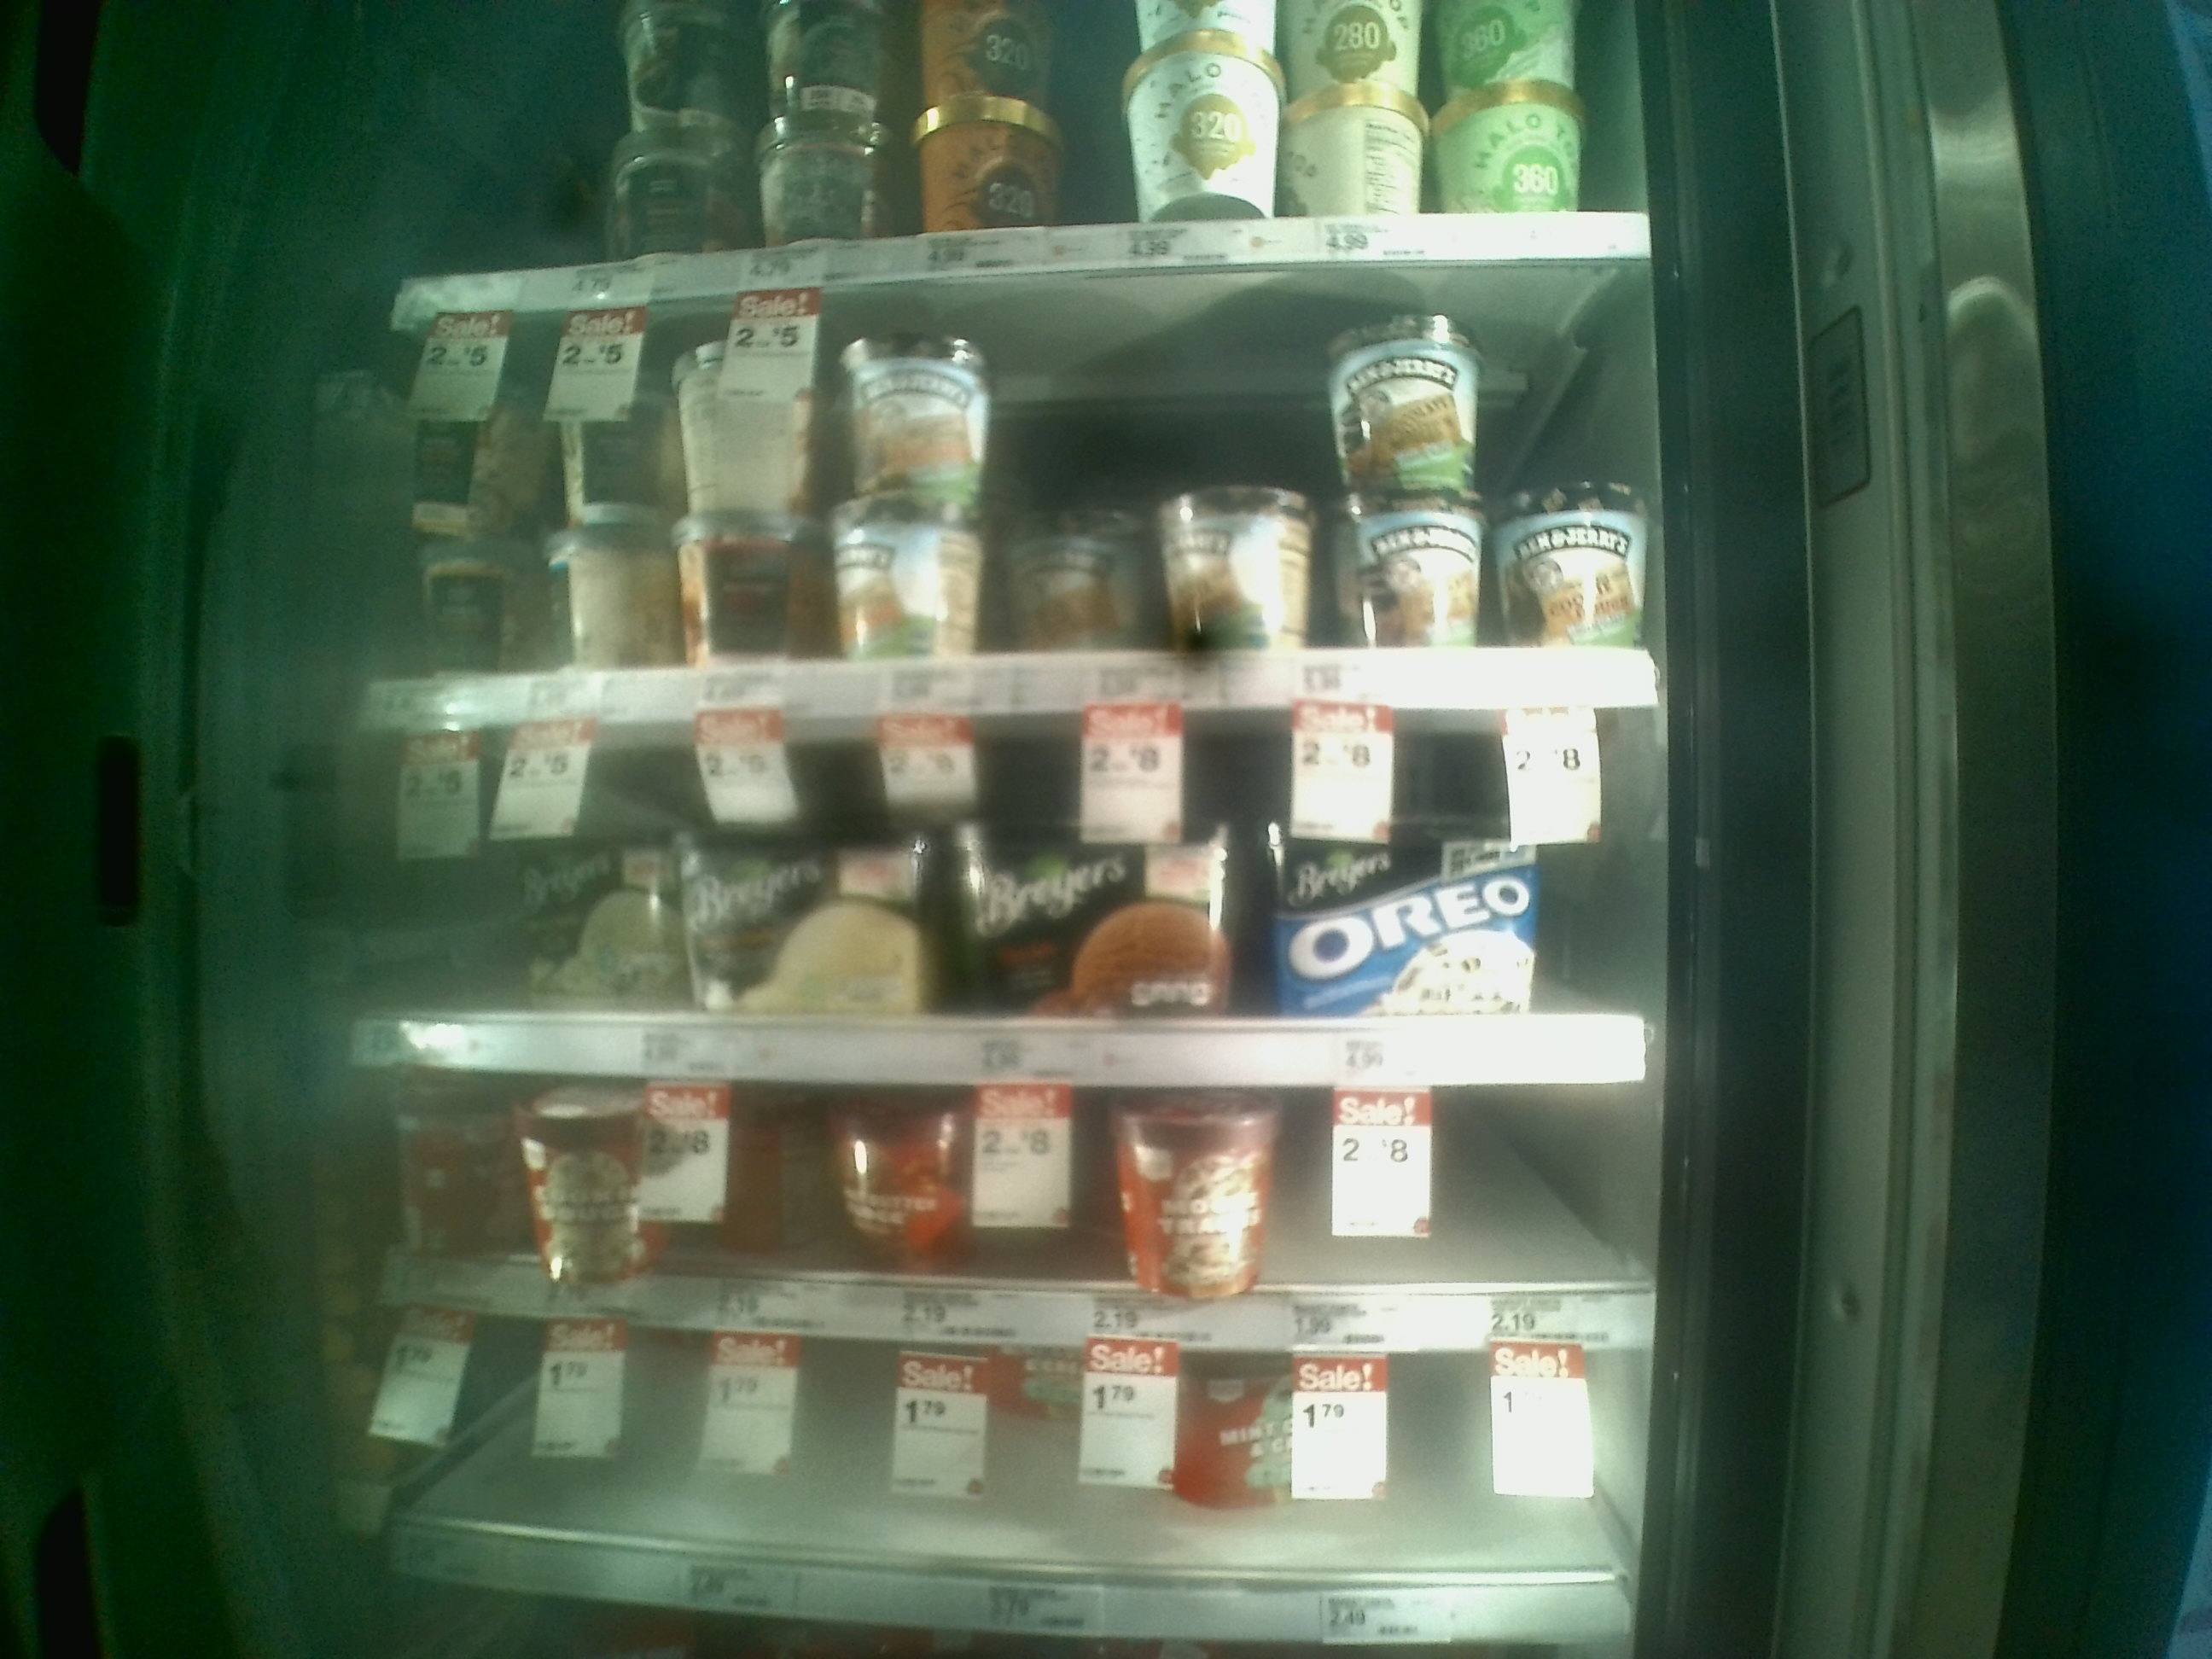shelf: (355, 272, 1669, 711), (355, 711, 1669, 1089), (383, 1321, 1667, 1659), (354, 1087, 1674, 1361)
